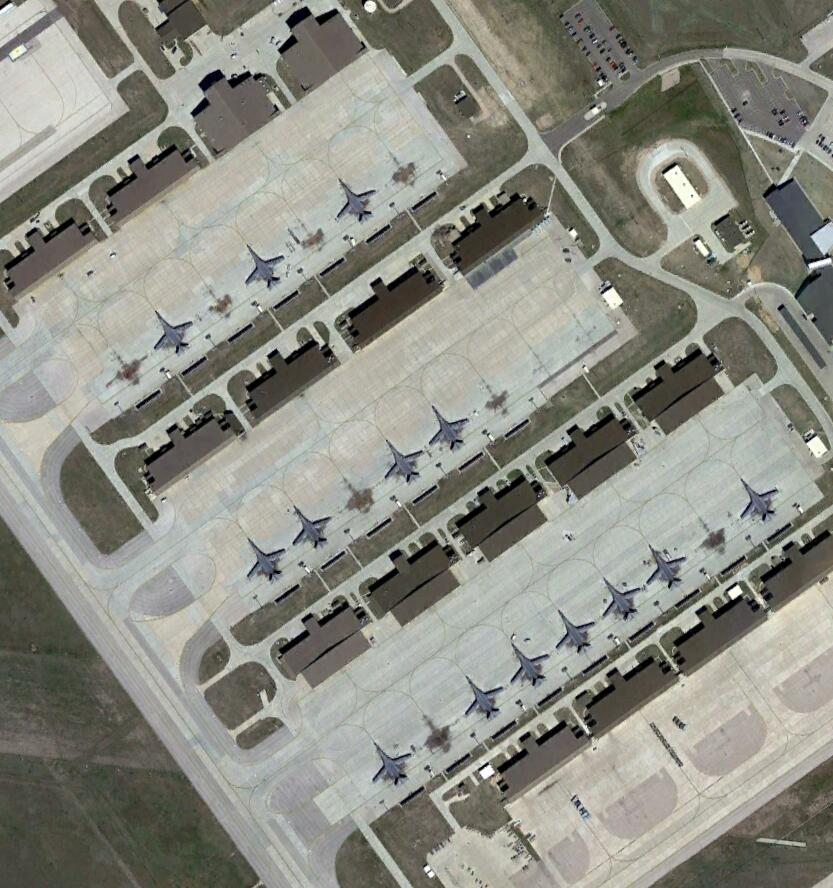A10: (238, 535, 286, 585), (239, 244, 288, 292), (426, 404, 475, 452), (644, 544, 692, 592), (505, 640, 553, 688), (596, 573, 643, 622), (552, 610, 600, 657), (285, 506, 333, 552), (151, 309, 195, 359), (740, 473, 782, 525), (331, 180, 377, 227), (461, 674, 505, 722), (370, 740, 414, 787), (381, 439, 426, 483)
